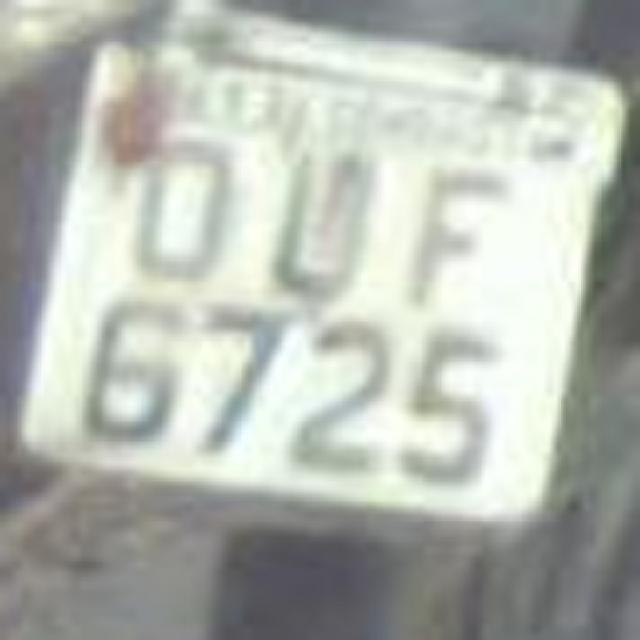2: (264, 304, 408, 488)
5: (368, 312, 520, 496)
6: (56, 256, 204, 456)
7: (169, 280, 296, 472)
F: (400, 148, 515, 324)
O: (116, 124, 249, 288)
U: (260, 124, 388, 316)
